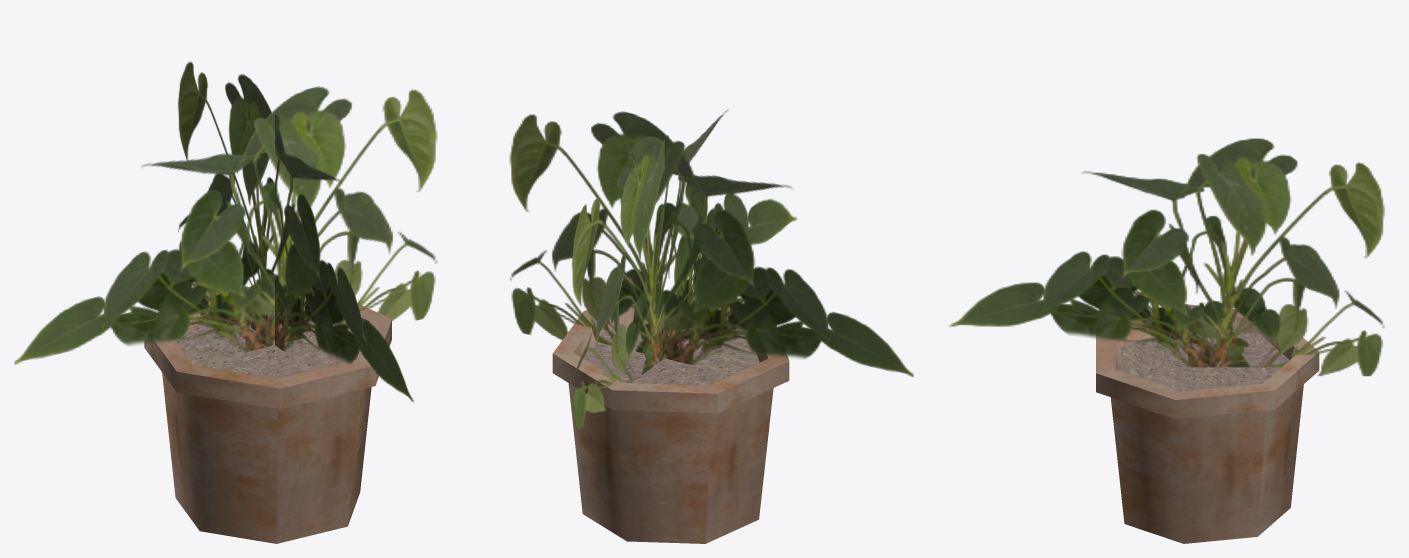
Rendered from plant_2.glb.
The picture shows the model from 3 angles, left to right: view 1: azimuth 30°, elevation 25°; view 2: azimuth 150°, elevation 25°; view 3: azimuth 270°, elevation 25°; orthographic projection. The views are drawn at different scales.
Parts seen in each view (by area): view 1: Plants_03; view 2: Plants_03; view 3: Plants_03.
Part boxes in pixels (x1,y1,x2,y2): Plants_03: (14, 61, 437, 543); Plants_03: (509, 109, 913, 543); Plants_03: (949, 138, 1384, 543).
Size of the model in its own units: 1.08 by 0.9583 by 1.04.
Materials: 2 (2 with a texture image).
